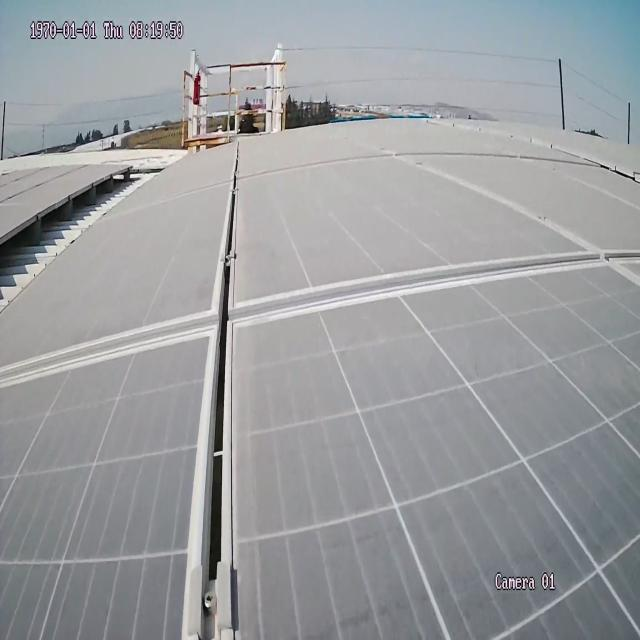interior panel: (0, 133, 640, 636), (212, 147, 600, 247), (0, 163, 97, 216)
outher panel: (1, 161, 171, 329)
